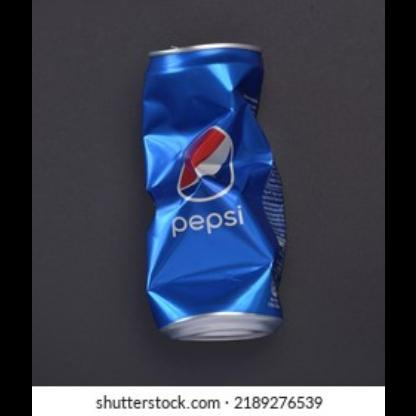Dent_Can: (141, 67, 277, 330)
Tin_Can: (130, 33, 296, 353)
